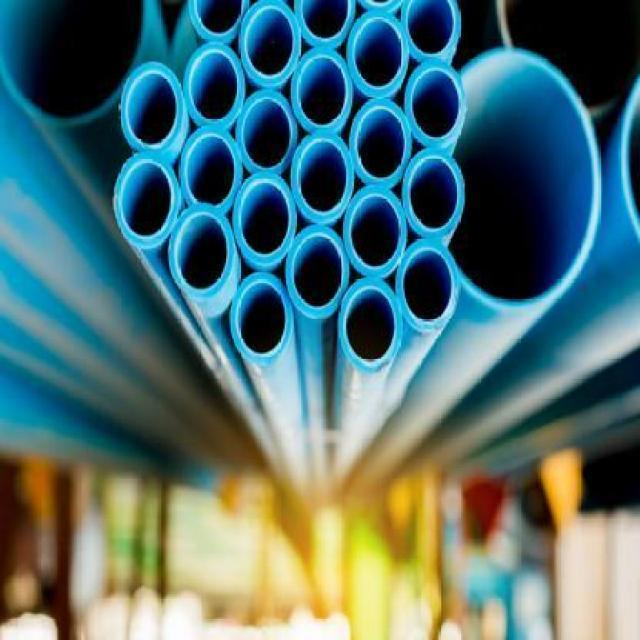pipe: (449, 46, 603, 311), (168, 203, 236, 300), (339, 277, 404, 374), (114, 154, 179, 250), (343, 185, 408, 278), (232, 171, 297, 264), (231, 271, 294, 365), (397, 239, 460, 333), (286, 225, 349, 319), (120, 62, 185, 153), (291, 132, 354, 225), (402, 146, 465, 237), (405, 59, 468, 148), (180, 126, 243, 214), (350, 100, 413, 188), (348, 11, 410, 99), (236, 89, 299, 174), (291, 48, 354, 133), (239, 2, 302, 87), (183, 44, 246, 128), (400, 0, 460, 62), (294, 2, 357, 50), (188, 2, 249, 44)
